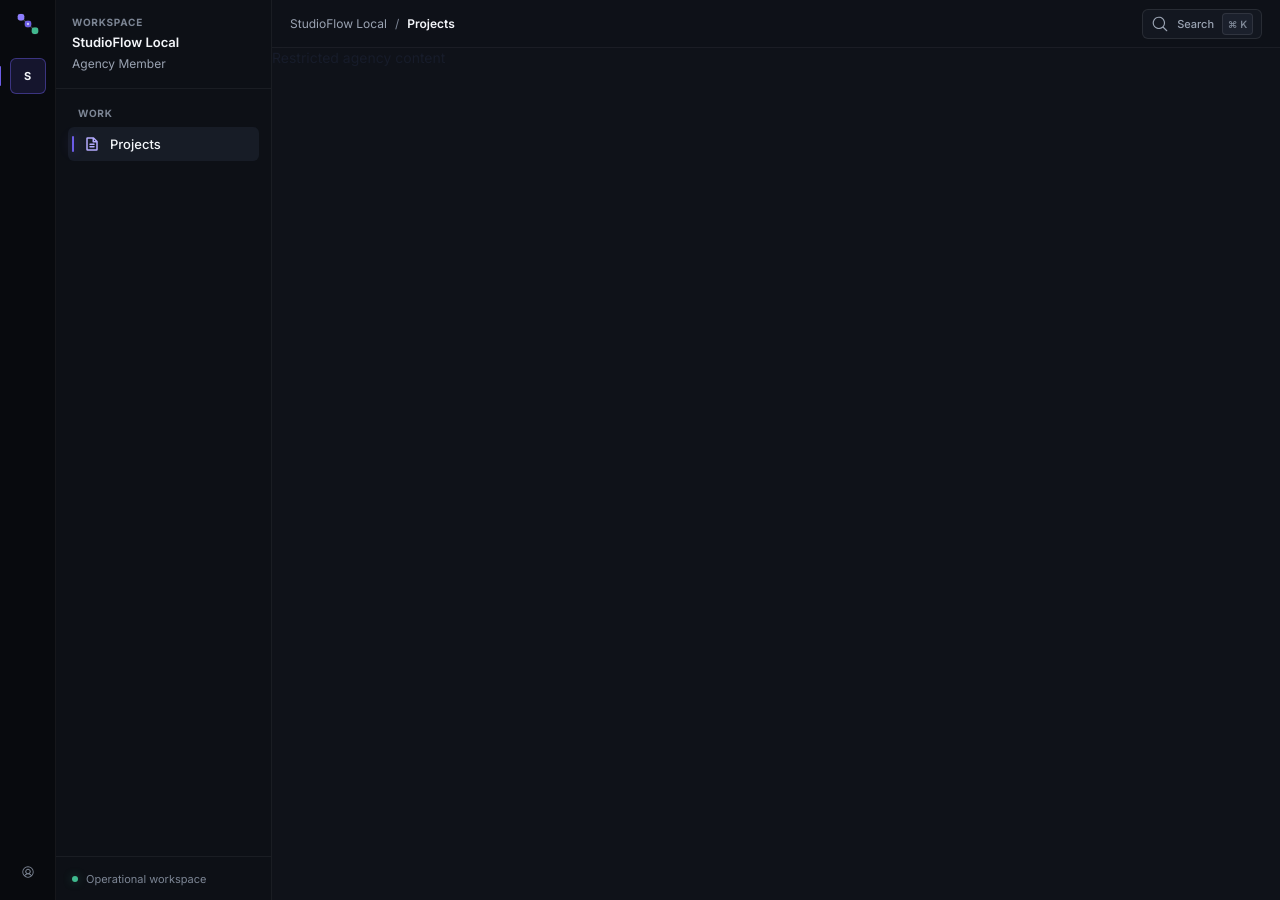
Test case: M08 product shells › restricted Agency navigation renders only policy-authorized destinations
Expected: the link "Delivery" is not shown
Click the button with aria-label "Search StudioFlow": x=1202, y=24 [1142,8,1262,38]
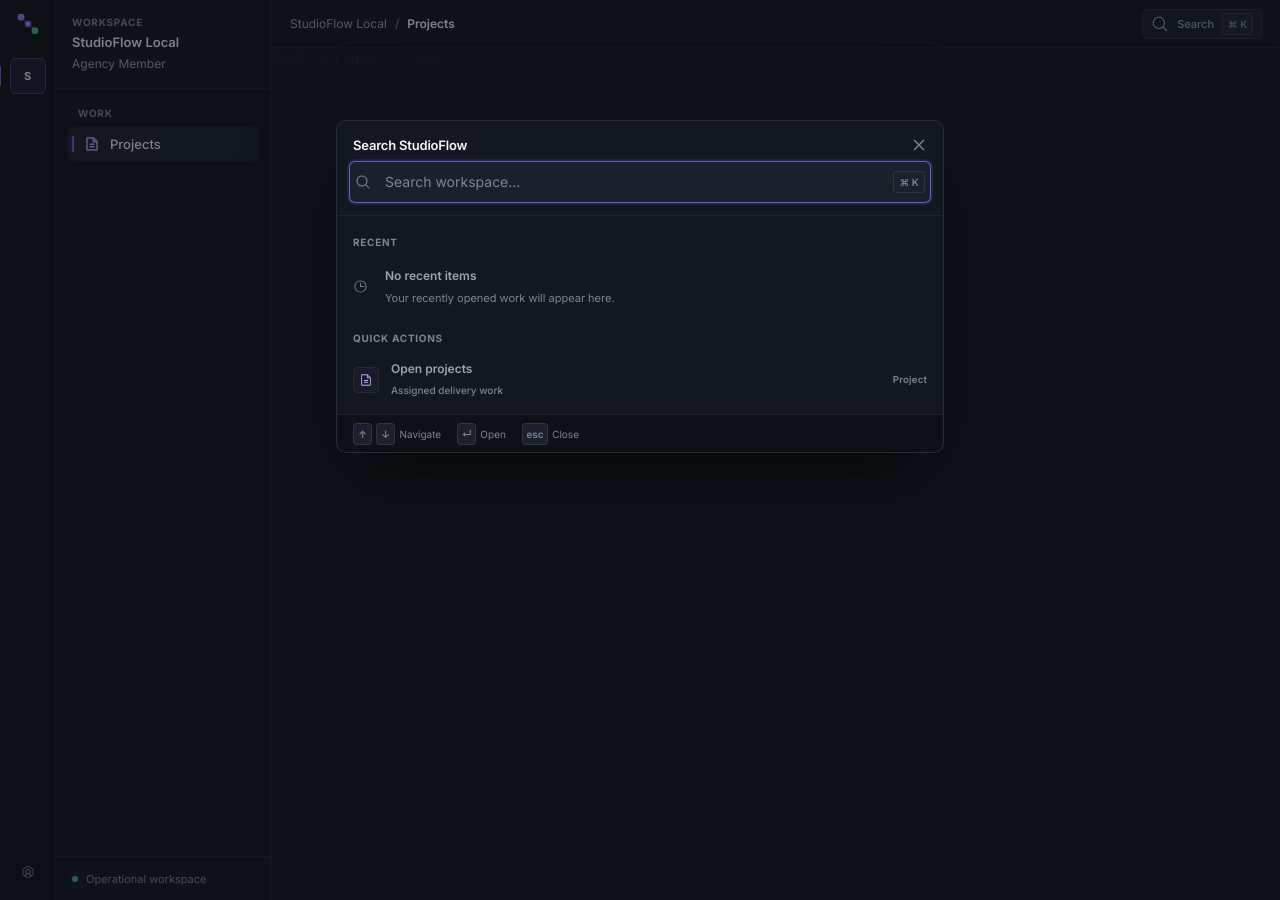
Expected: the link "Open projects Assigned delivery work Project" is shown, [345,354,935,406]
